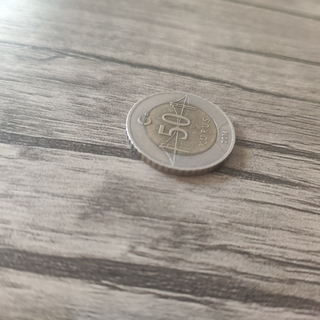50KURUS: (124, 89, 237, 178)
